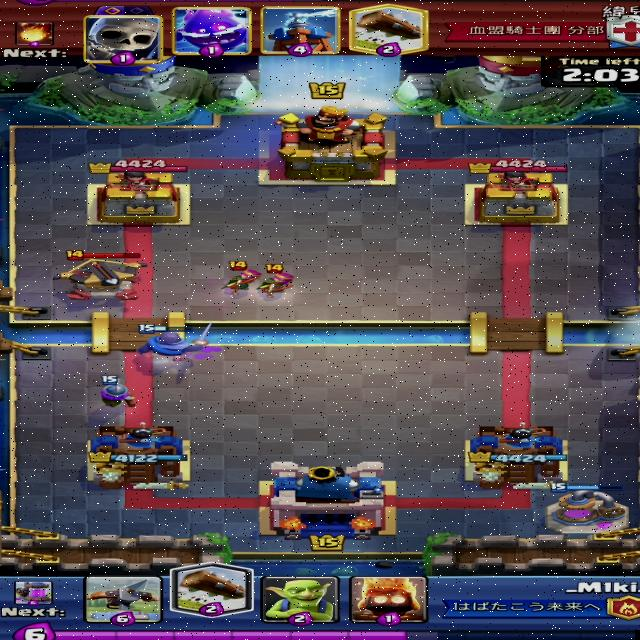Enemy-Archer: (250, 263, 297, 299), (221, 260, 260, 296)
Enemy-XBow: (54, 250, 152, 302)
Player-ElixirPump: (545, 482, 632, 535)
Player-Knight: (130, 323, 216, 362)
Player-Musketeer: (94, 373, 136, 411)
